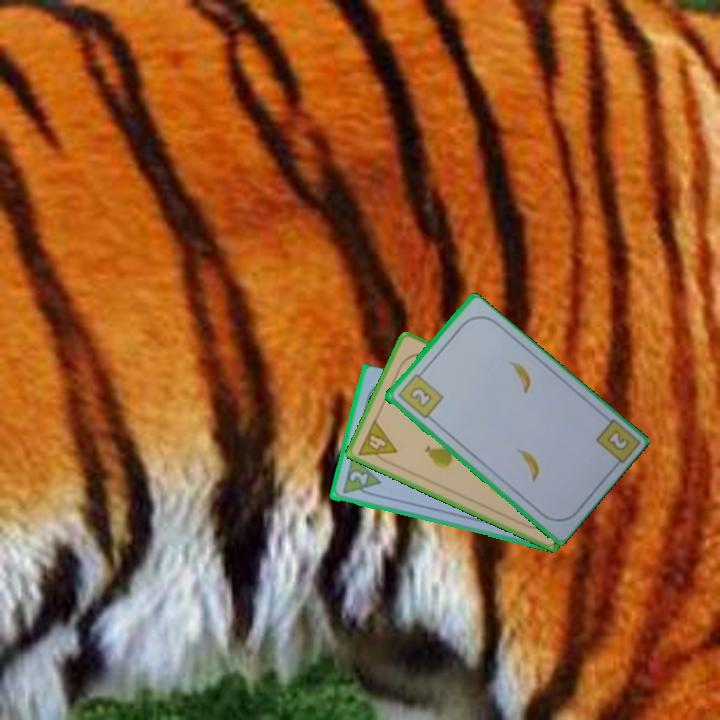2b: (394, 367, 446, 421), (603, 426, 634, 454)
2p: (338, 454, 383, 500)
4p: (354, 416, 400, 468)
